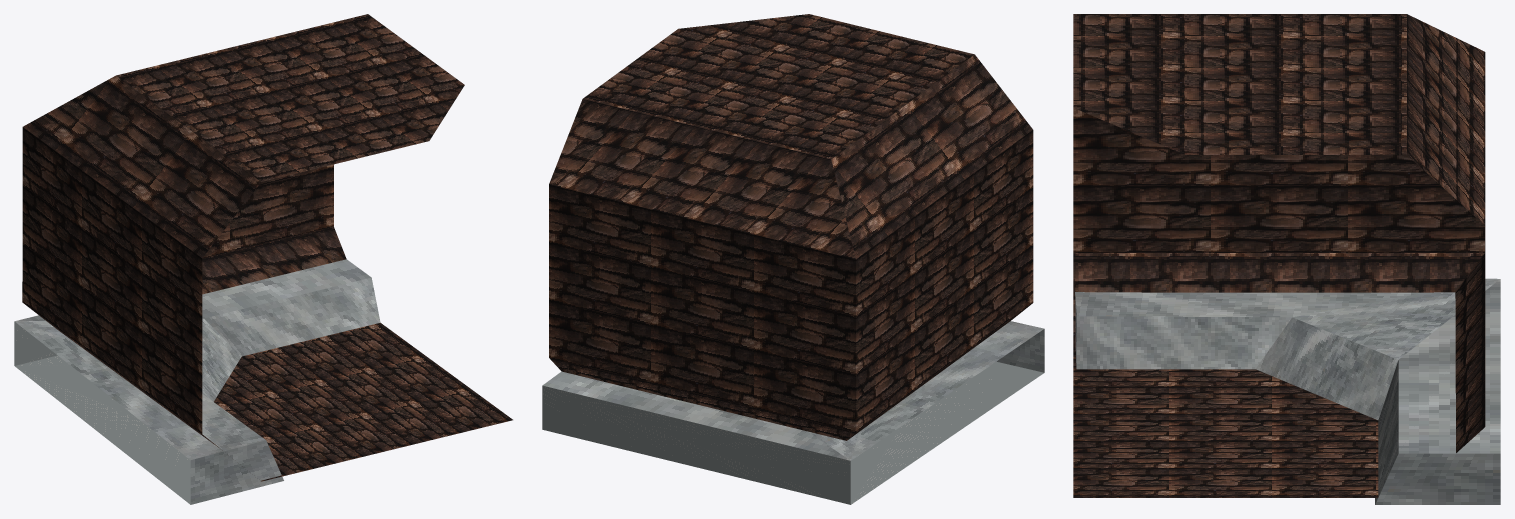
The model's file is Pipe7.glb.
The picture shows the model from 3 angles, left to right: view 1: azimuth 30°, elevation 25°; view 2: azimuth 150°, elevation 25°; view 3: azimuth 270°, elevation 25°; orthographic projection. The views are drawn at different scales.
Visible parts, largest first — view 1: Plane.006; view 2: Plane.006; view 3: Plane.006.
Boxes of the visible parts, x1,y1,x2,y2 form: Plane.006: [14, 14, 512, 504]; Plane.006: [542, 14, 1044, 504]; Plane.006: [1073, 14, 1500, 504].
Bounding box in the file's own units: 3.84 × 3.47 × 3.84.
Materials: 2 (2 with a texture image).
